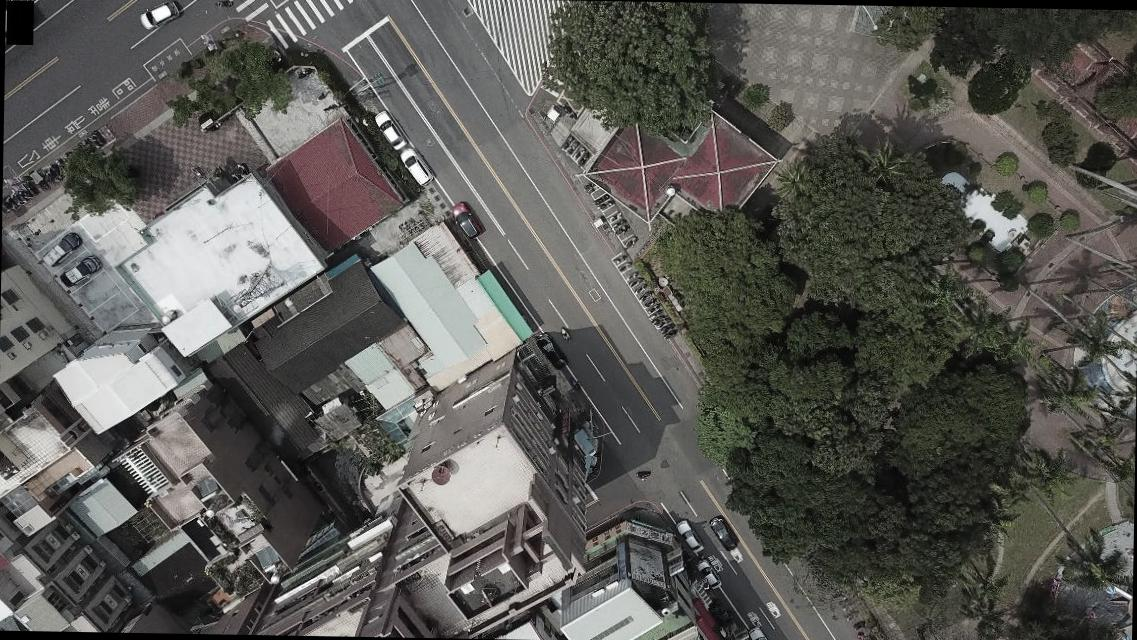vehicle: (40, 230, 82, 268), (59, 253, 102, 288), (533, 332, 570, 370), (373, 110, 408, 150), (398, 149, 434, 187), (138, 0, 182, 31), (449, 200, 484, 238), (707, 515, 739, 553), (674, 518, 706, 554), (695, 558, 722, 590), (746, 625, 769, 639)
